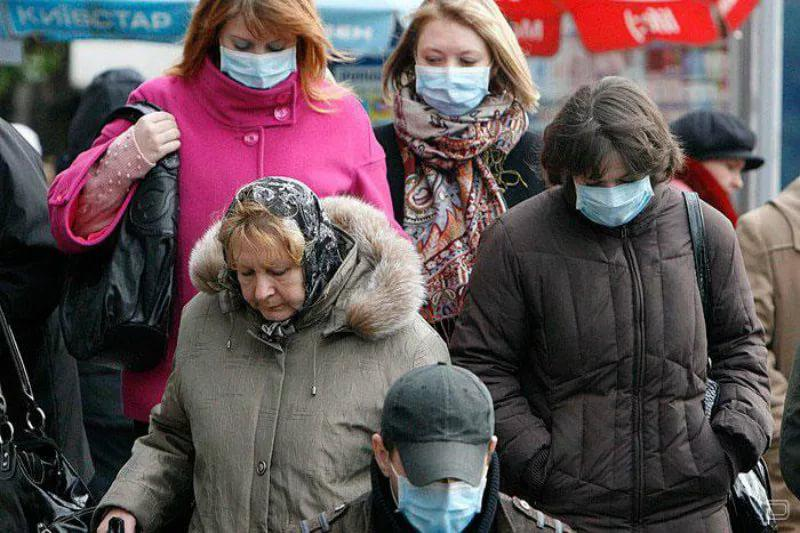mask: (394, 429, 490, 533), (417, 20, 489, 118), (578, 144, 643, 229), (223, 16, 295, 85)
none: (235, 233, 305, 325), (692, 143, 758, 205)
